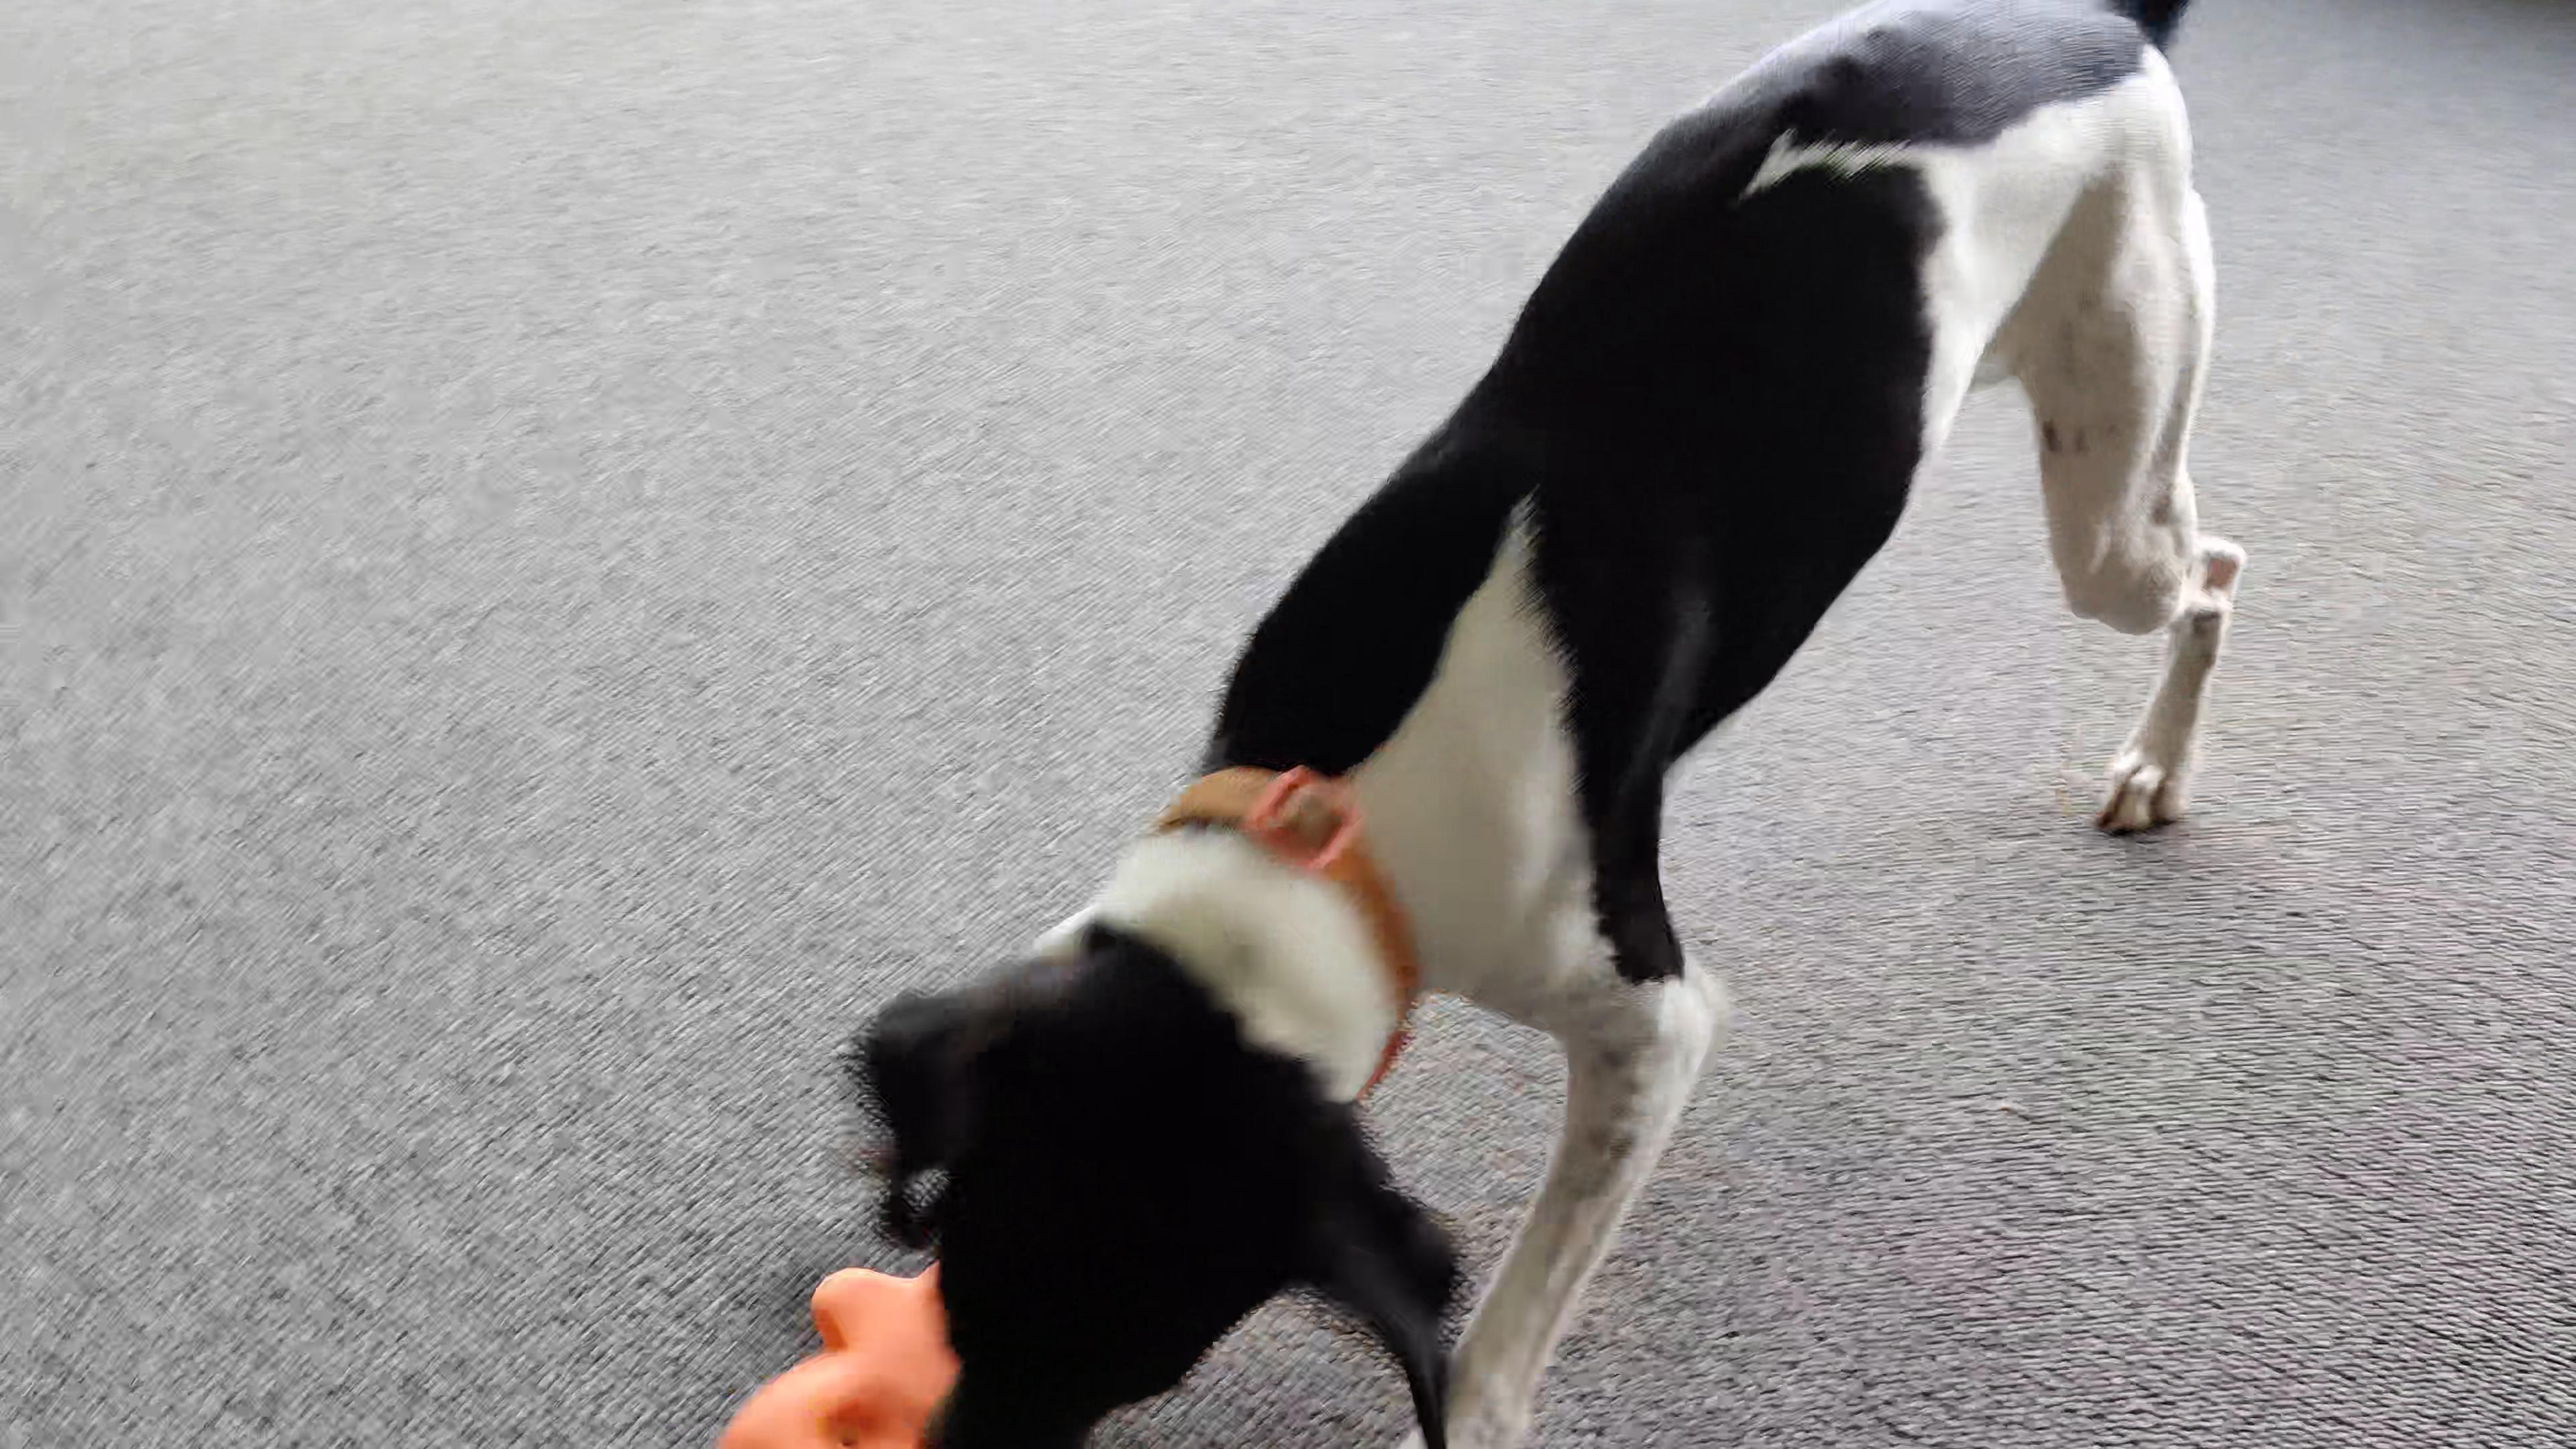Dog: (833, 0, 2259, 1449)
